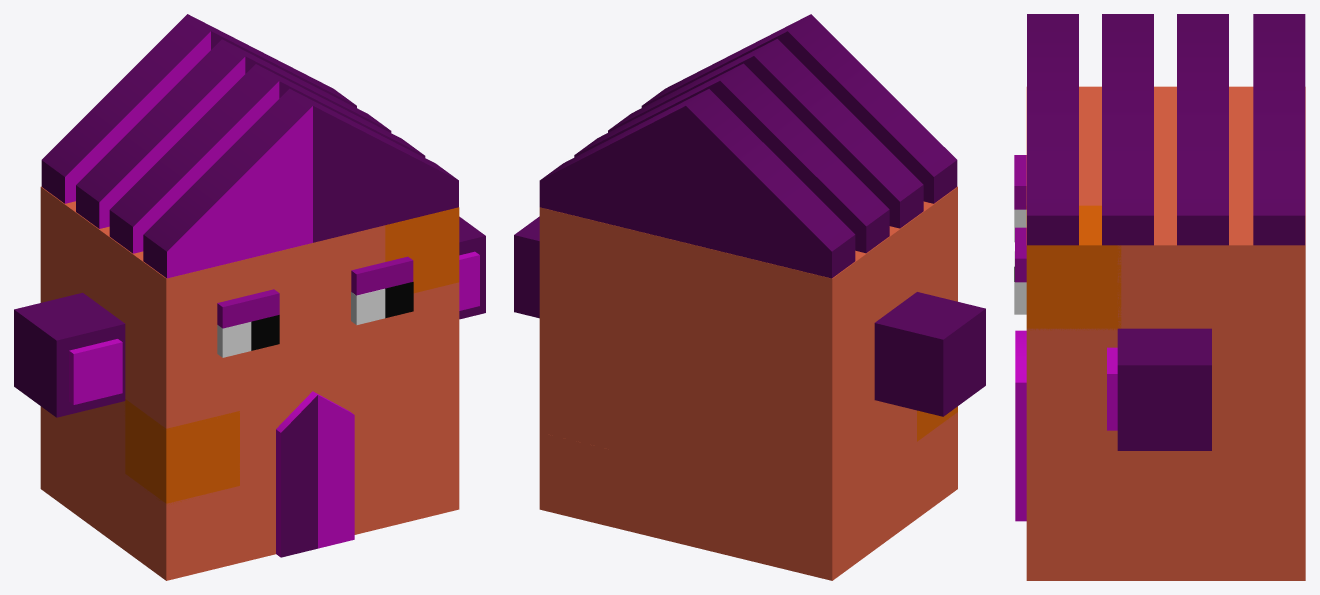
The model's file is ele.fbx.
The picture shows the model from 3 angles, left to right: view 1: azimuth 30°, elevation 25°; view 2: azimuth 150°, elevation 25°; view 3: azimuth 270°, elevation 25°; orthographic projection. The views are drawn at different scales.
Visible parts, largest first — view 1: pCube395, pCube382, pCube404, pCube402, pCube403, pCube334, pCube346, pCube401, pCube358, pCube370, pCube337, pCube349 (+24 smaller); view 2: pCube404, pCube401, pCube403, pCube402, pCube395, pCube378, pCube342, pCube366, pCube354, pCube345, pCube368, pCube381 (+17 smaller); view 3: pCube404, pCube395, pCube402, pCube403, pCube400, pCube373, pCube381, pCube377, pCube337, pCube345, pCube369, pCube357 (+18 smaller).
Boxes of the visible parts, x1,y1,x2,y2 form: pCube395: (143, 88, 458, 278); pCube382: (276, 391, 354, 557); pCube404: (41, 14, 356, 203); pCube402: (109, 64, 425, 253); pCube403: (76, 39, 391, 228); pCube334: (123, 474, 239, 580); pCube346: (124, 399, 239, 504); pCube401: (14, 292, 125, 417); pCube358: (125, 324, 239, 428); pCube370: (123, 247, 239, 353); pCube337: (385, 432, 459, 527); pCube349: (385, 357, 459, 450); pCube404: (539, 89, 855, 278); pCube401: (874, 292, 985, 416); pCube403: (574, 63, 889, 253); pCube402: (608, 39, 923, 228); pCube395: (641, 14, 957, 203); pCube378: (758, 248, 874, 355); pCube342: (758, 475, 874, 580); pCube366: (758, 323, 874, 430); pCube354: (758, 398, 874, 503); pCube345: (539, 432, 613, 527); pCube368: (612, 300, 686, 394); pCube381: (539, 207, 613, 302); pCube404: (1253, 14, 1305, 245); pCube395: (1027, 14, 1078, 245); pCube402: (1102, 14, 1153, 245); pCube403: (1177, 14, 1228, 245); pCube400: (1117, 328, 1211, 450); pCube373: (1026, 205, 1121, 330); pCube381: (1211, 205, 1305, 330); pCube377: (1117, 205, 1211, 328); pCube337: (1026, 495, 1121, 580); pCube345: (1211, 495, 1305, 580); pCube369: (1212, 328, 1305, 414); pCube357: (1211, 412, 1305, 497).
Size of the model in its own units: 11.65 by 11.39 by 6.17.
